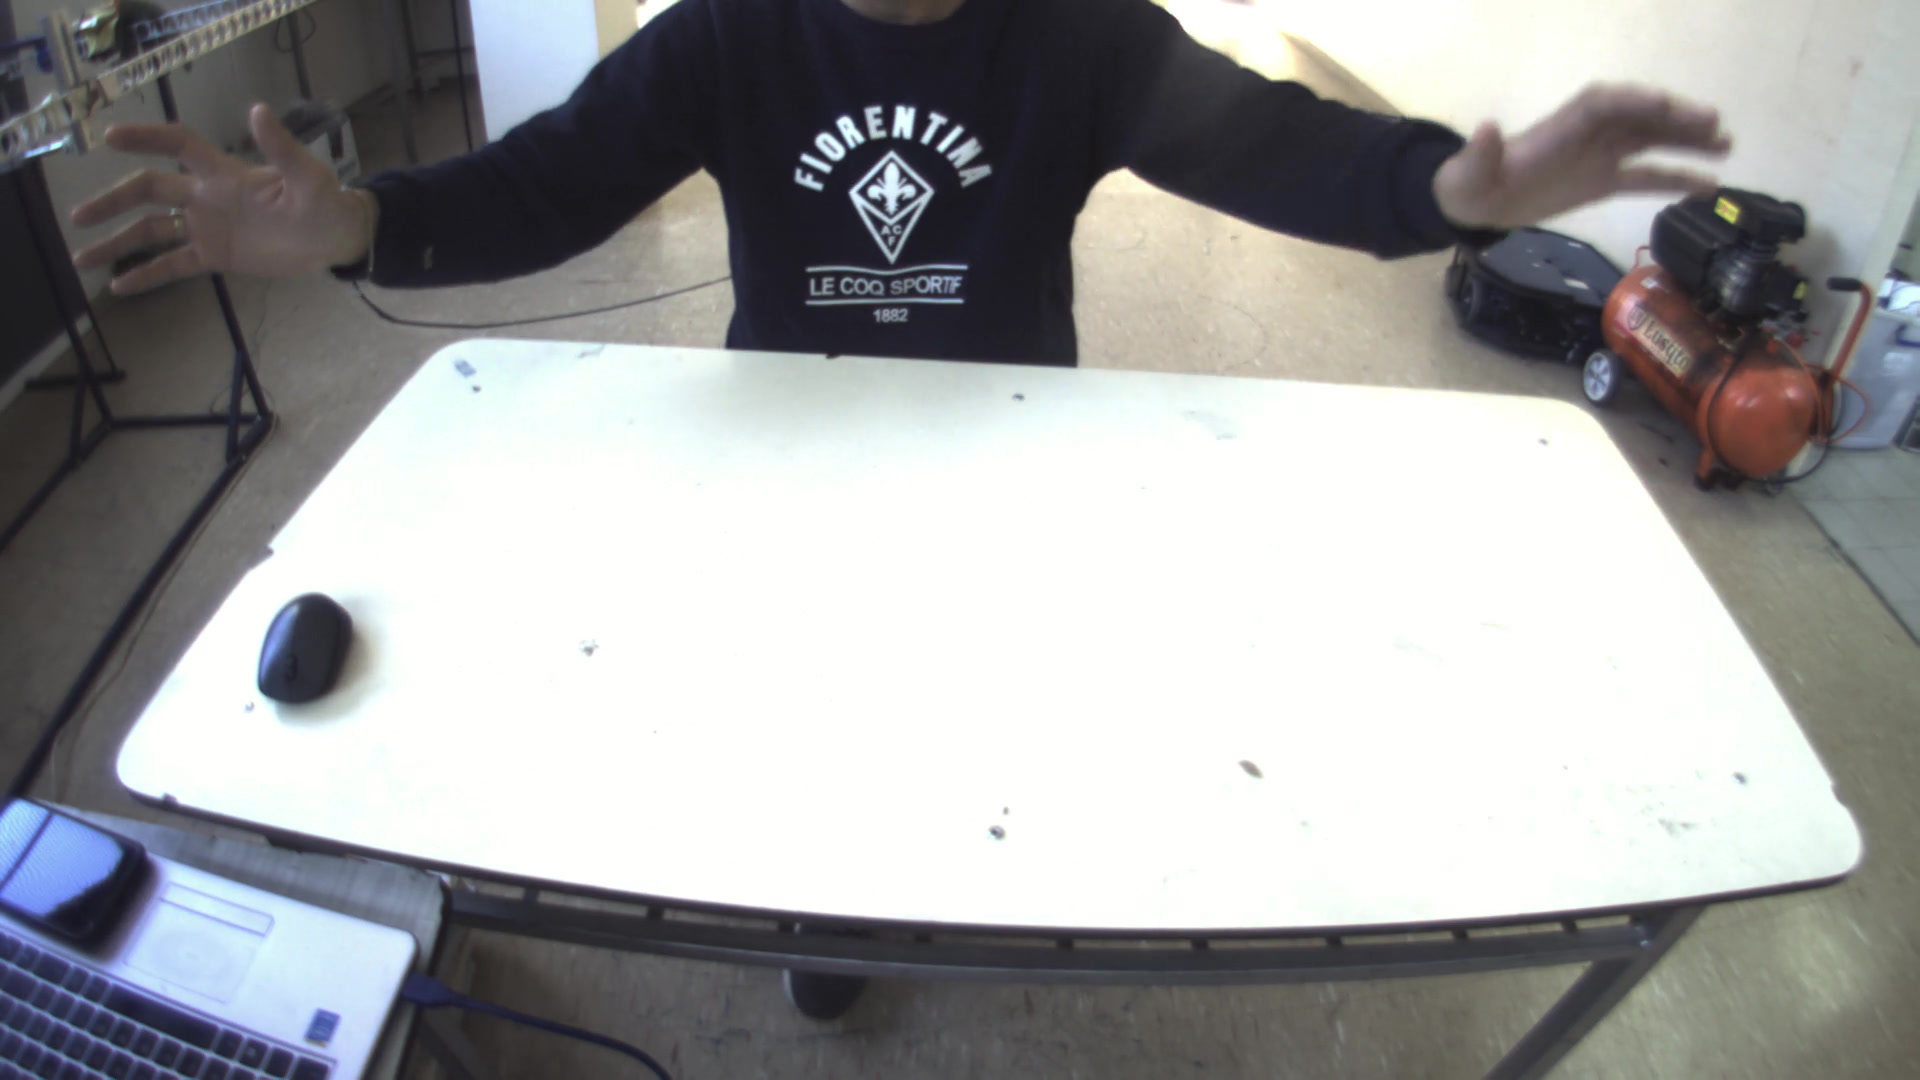hand: (44, 86, 372, 302), (1441, 69, 1727, 225)
